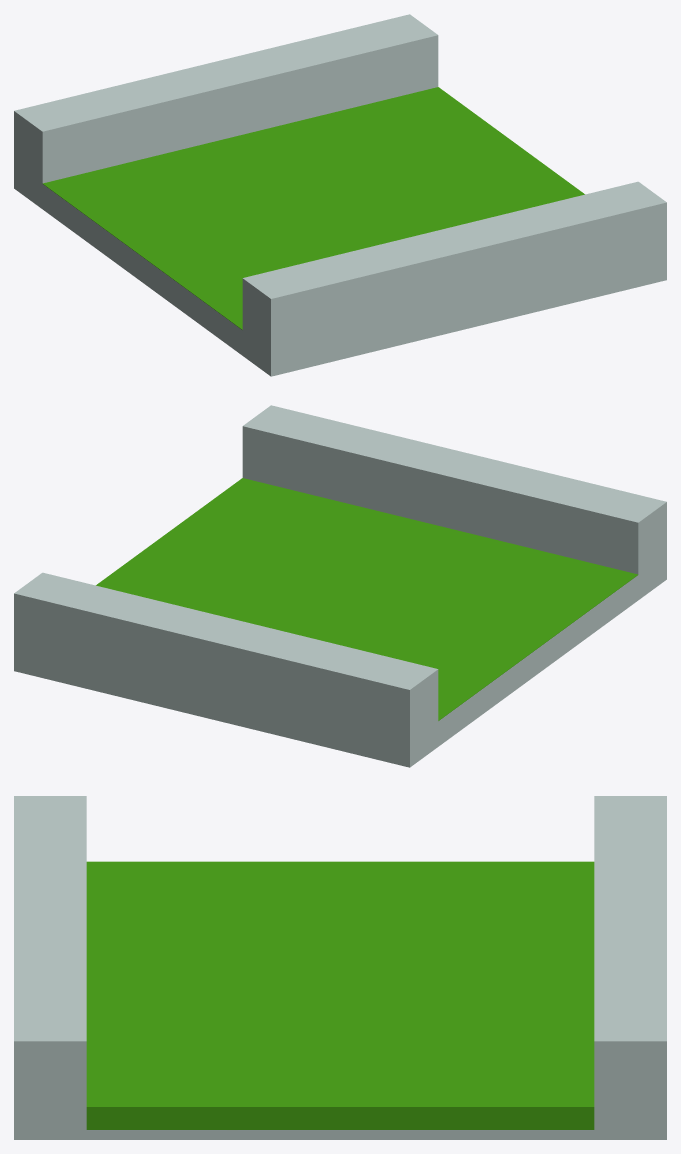
Rendered from Camino Recto.fbx.
3 views of the same model, one above another, from view 1: azimuth 30°, elevation 25°; view 2: azimuth 150°, elevation 25°; view 3: azimuth 270°, elevation 25° (orthographic). The views are drawn at different scales.
Parts seen in each view (by area): view 1: Camino Recto; view 2: Camino Recto; view 3: Camino Recto.
Boxes of the visible parts, x1,y1,x2,y2 form: Camino Recto: [14, 14, 666, 376]; Camino Recto: [14, 405, 666, 767]; Camino Recto: [14, 796, 666, 1139].
Bounding box in the file's own units: 80 × 15 × 90.
1 material, 1 textured.
